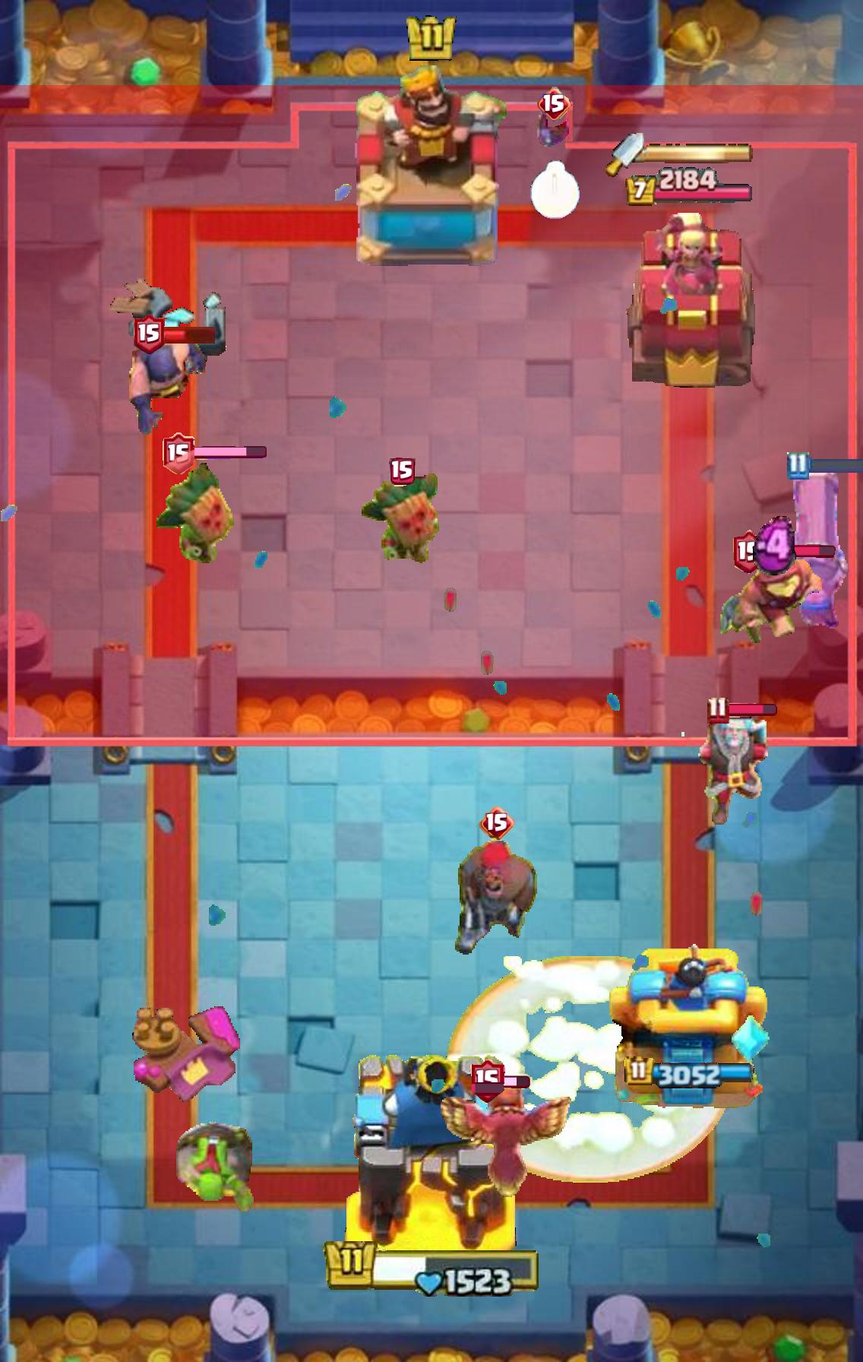bar: (161, 325, 217, 344), (192, 446, 267, 460), (761, 545, 836, 559), (725, 703, 777, 717), (501, 1076, 530, 1089)
bar-level: (470, 1060, 505, 1104), (733, 530, 765, 574), (133, 314, 165, 355), (163, 432, 194, 474), (537, 87, 572, 122), (479, 806, 515, 840), (389, 458, 416, 486), (707, 695, 729, 724)
